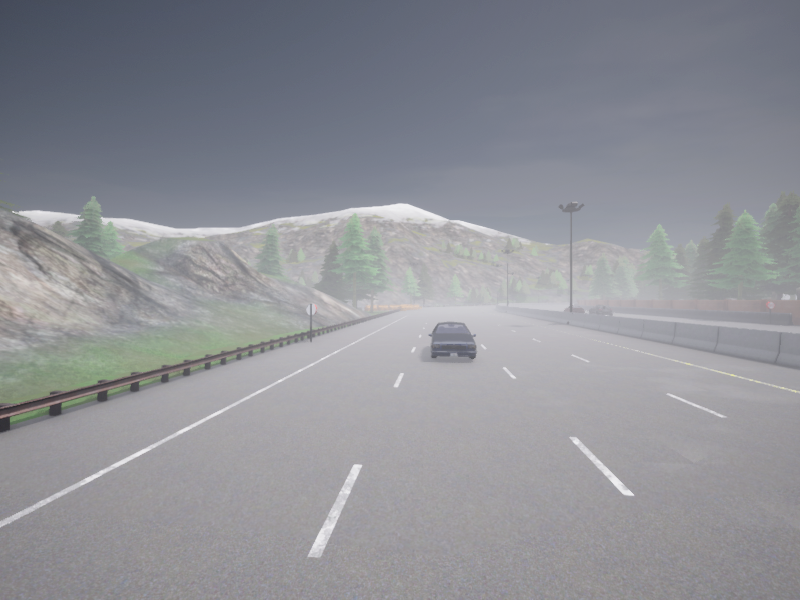vehicle: (428, 322, 476, 358), (589, 305, 611, 315), (564, 306, 583, 312)
